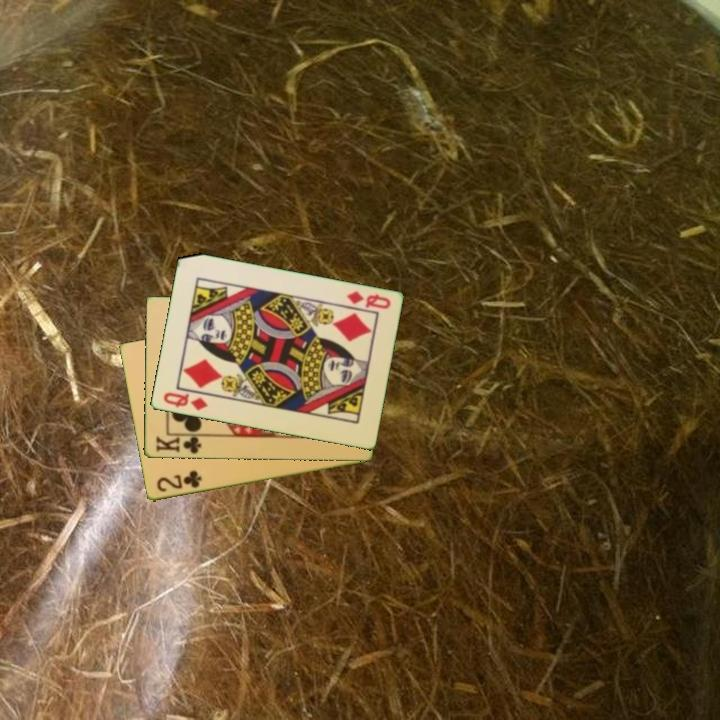2c: (153, 467, 204, 495)
Kc: (152, 432, 206, 457)
Qd: (159, 389, 210, 414), (343, 288, 393, 312)
